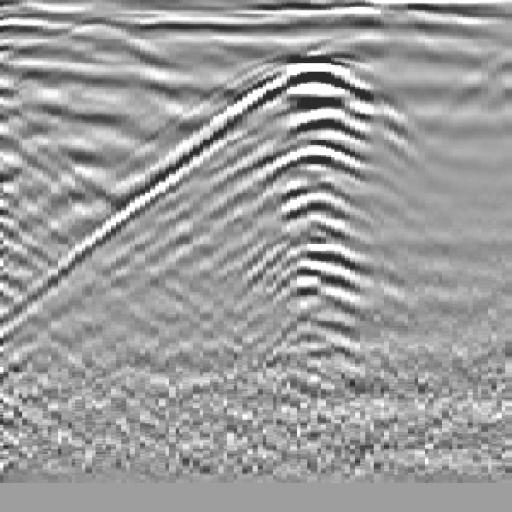metalic: (140, 35, 460, 381)
